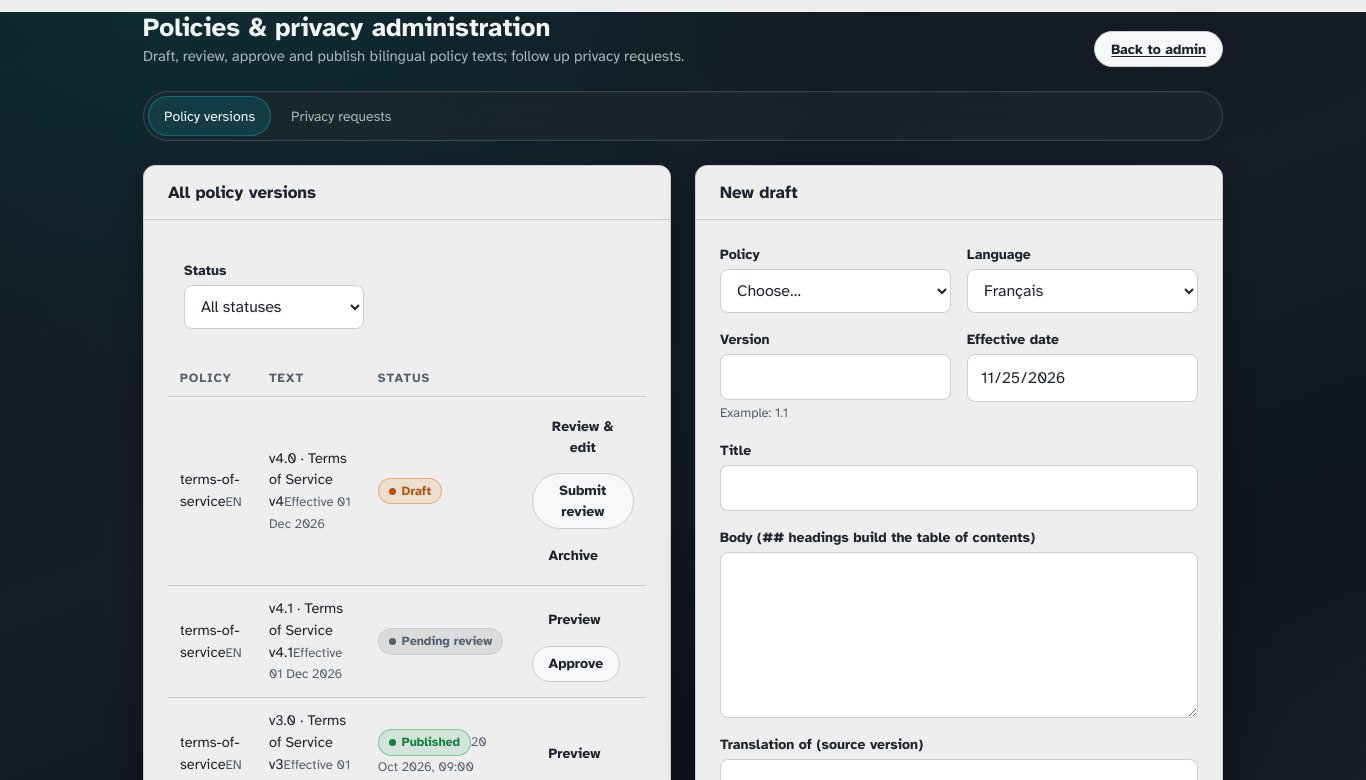
it: LegalAdminPage › approves a version that is waiting for review
The width and height of the screenshot is (1366, 780).
Click the button "Approve" at (576, 664), box [532,646,620,682]
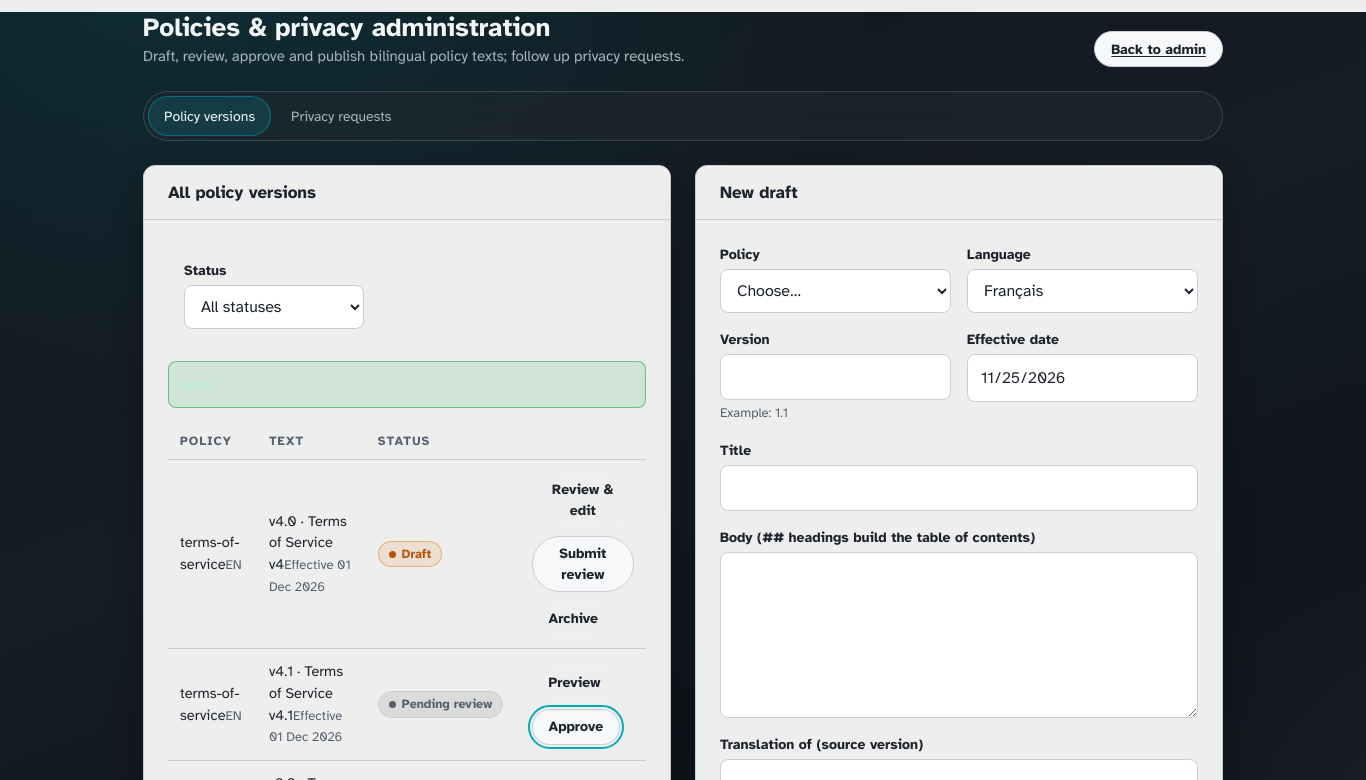
Expected: the text "Done." is shown, [168,361,646,408]
